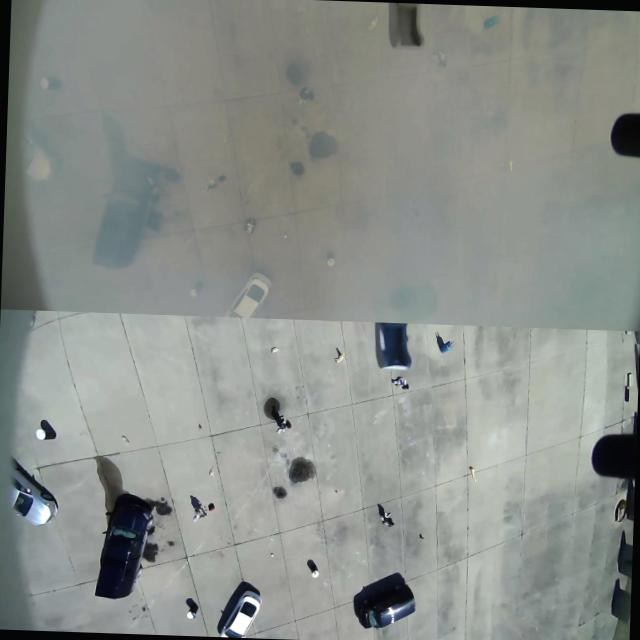car: (3, 440, 64, 540), (217, 576, 274, 638), (214, 261, 276, 318)
